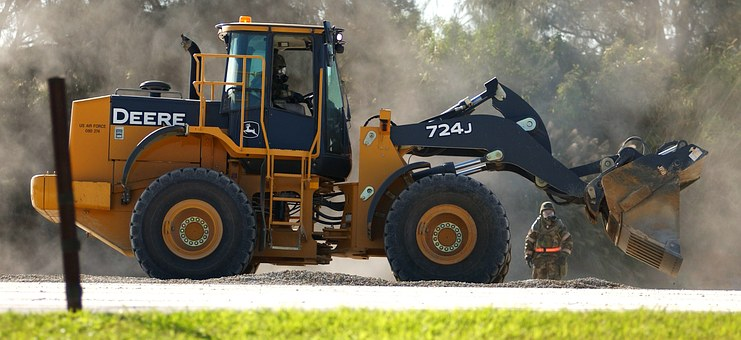excavator: (26, 13, 711, 285)
